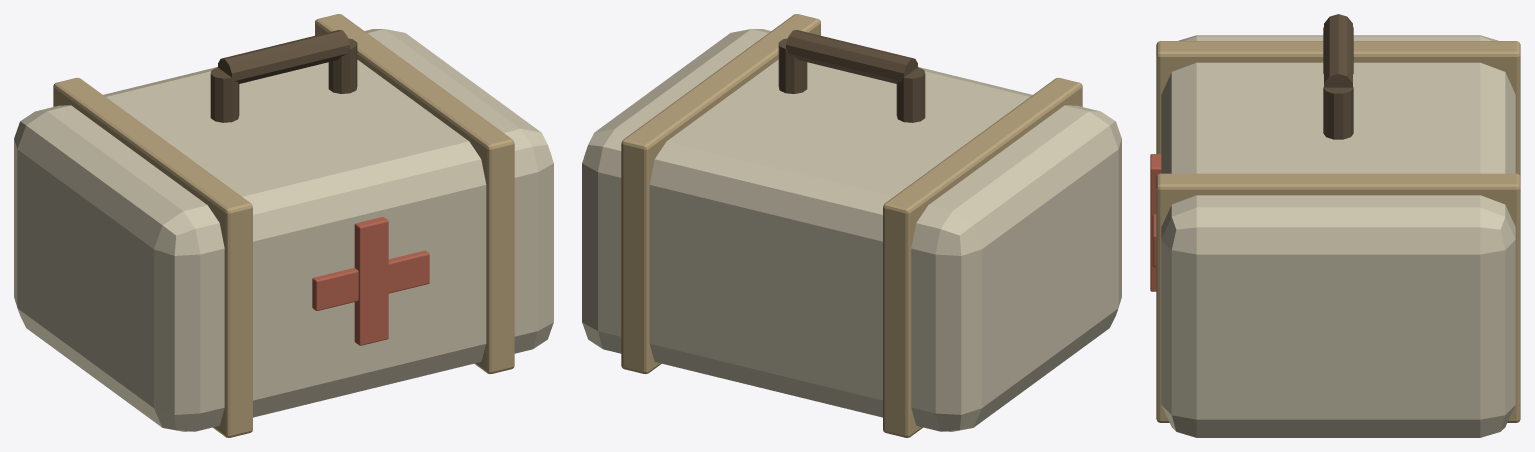
File: medkit.glb
The picture shows the model from 3 angles, left to right: view 1: azimuth 30°, elevation 25°; view 2: azimuth 150°, elevation 25°; view 3: azimuth 270°, elevation 25°; orthographic projection. The views are drawn at different scales.
Parts seen in each view (by area): view 1: GEO-medkit-54, GEO-medkit-108, GEO-medkit-108.001, GEO-medkit-36; view 2: GEO-medkit-54, GEO-medkit-108, GEO-medkit-36; view 3: GEO-medkit-54, GEO-medkit-108, GEO-medkit-36, GEO-medkit-108.001.
Boxes of the visible parts, x1,y1,x2,y2 form: GEO-medkit-54: [14, 29, 553, 431]; GEO-medkit-108: [53, 14, 514, 437]; GEO-medkit-108.001: [312, 217, 429, 345]; GEO-medkit-36: [210, 30, 357, 122]; GEO-medkit-54: [582, 29, 1121, 431]; GEO-medkit-108: [621, 14, 1082, 437]; GEO-medkit-36: [778, 30, 925, 122]; GEO-medkit-54: [1161, 35, 1515, 437]; GEO-medkit-108: [1156, 41, 1520, 422]; GEO-medkit-36: [1323, 14, 1353, 139]; GEO-medkit-108.001: [1150, 154, 1161, 291].
Bounding box in the file's own units: 0.94 × 0.67 × 0.732.
